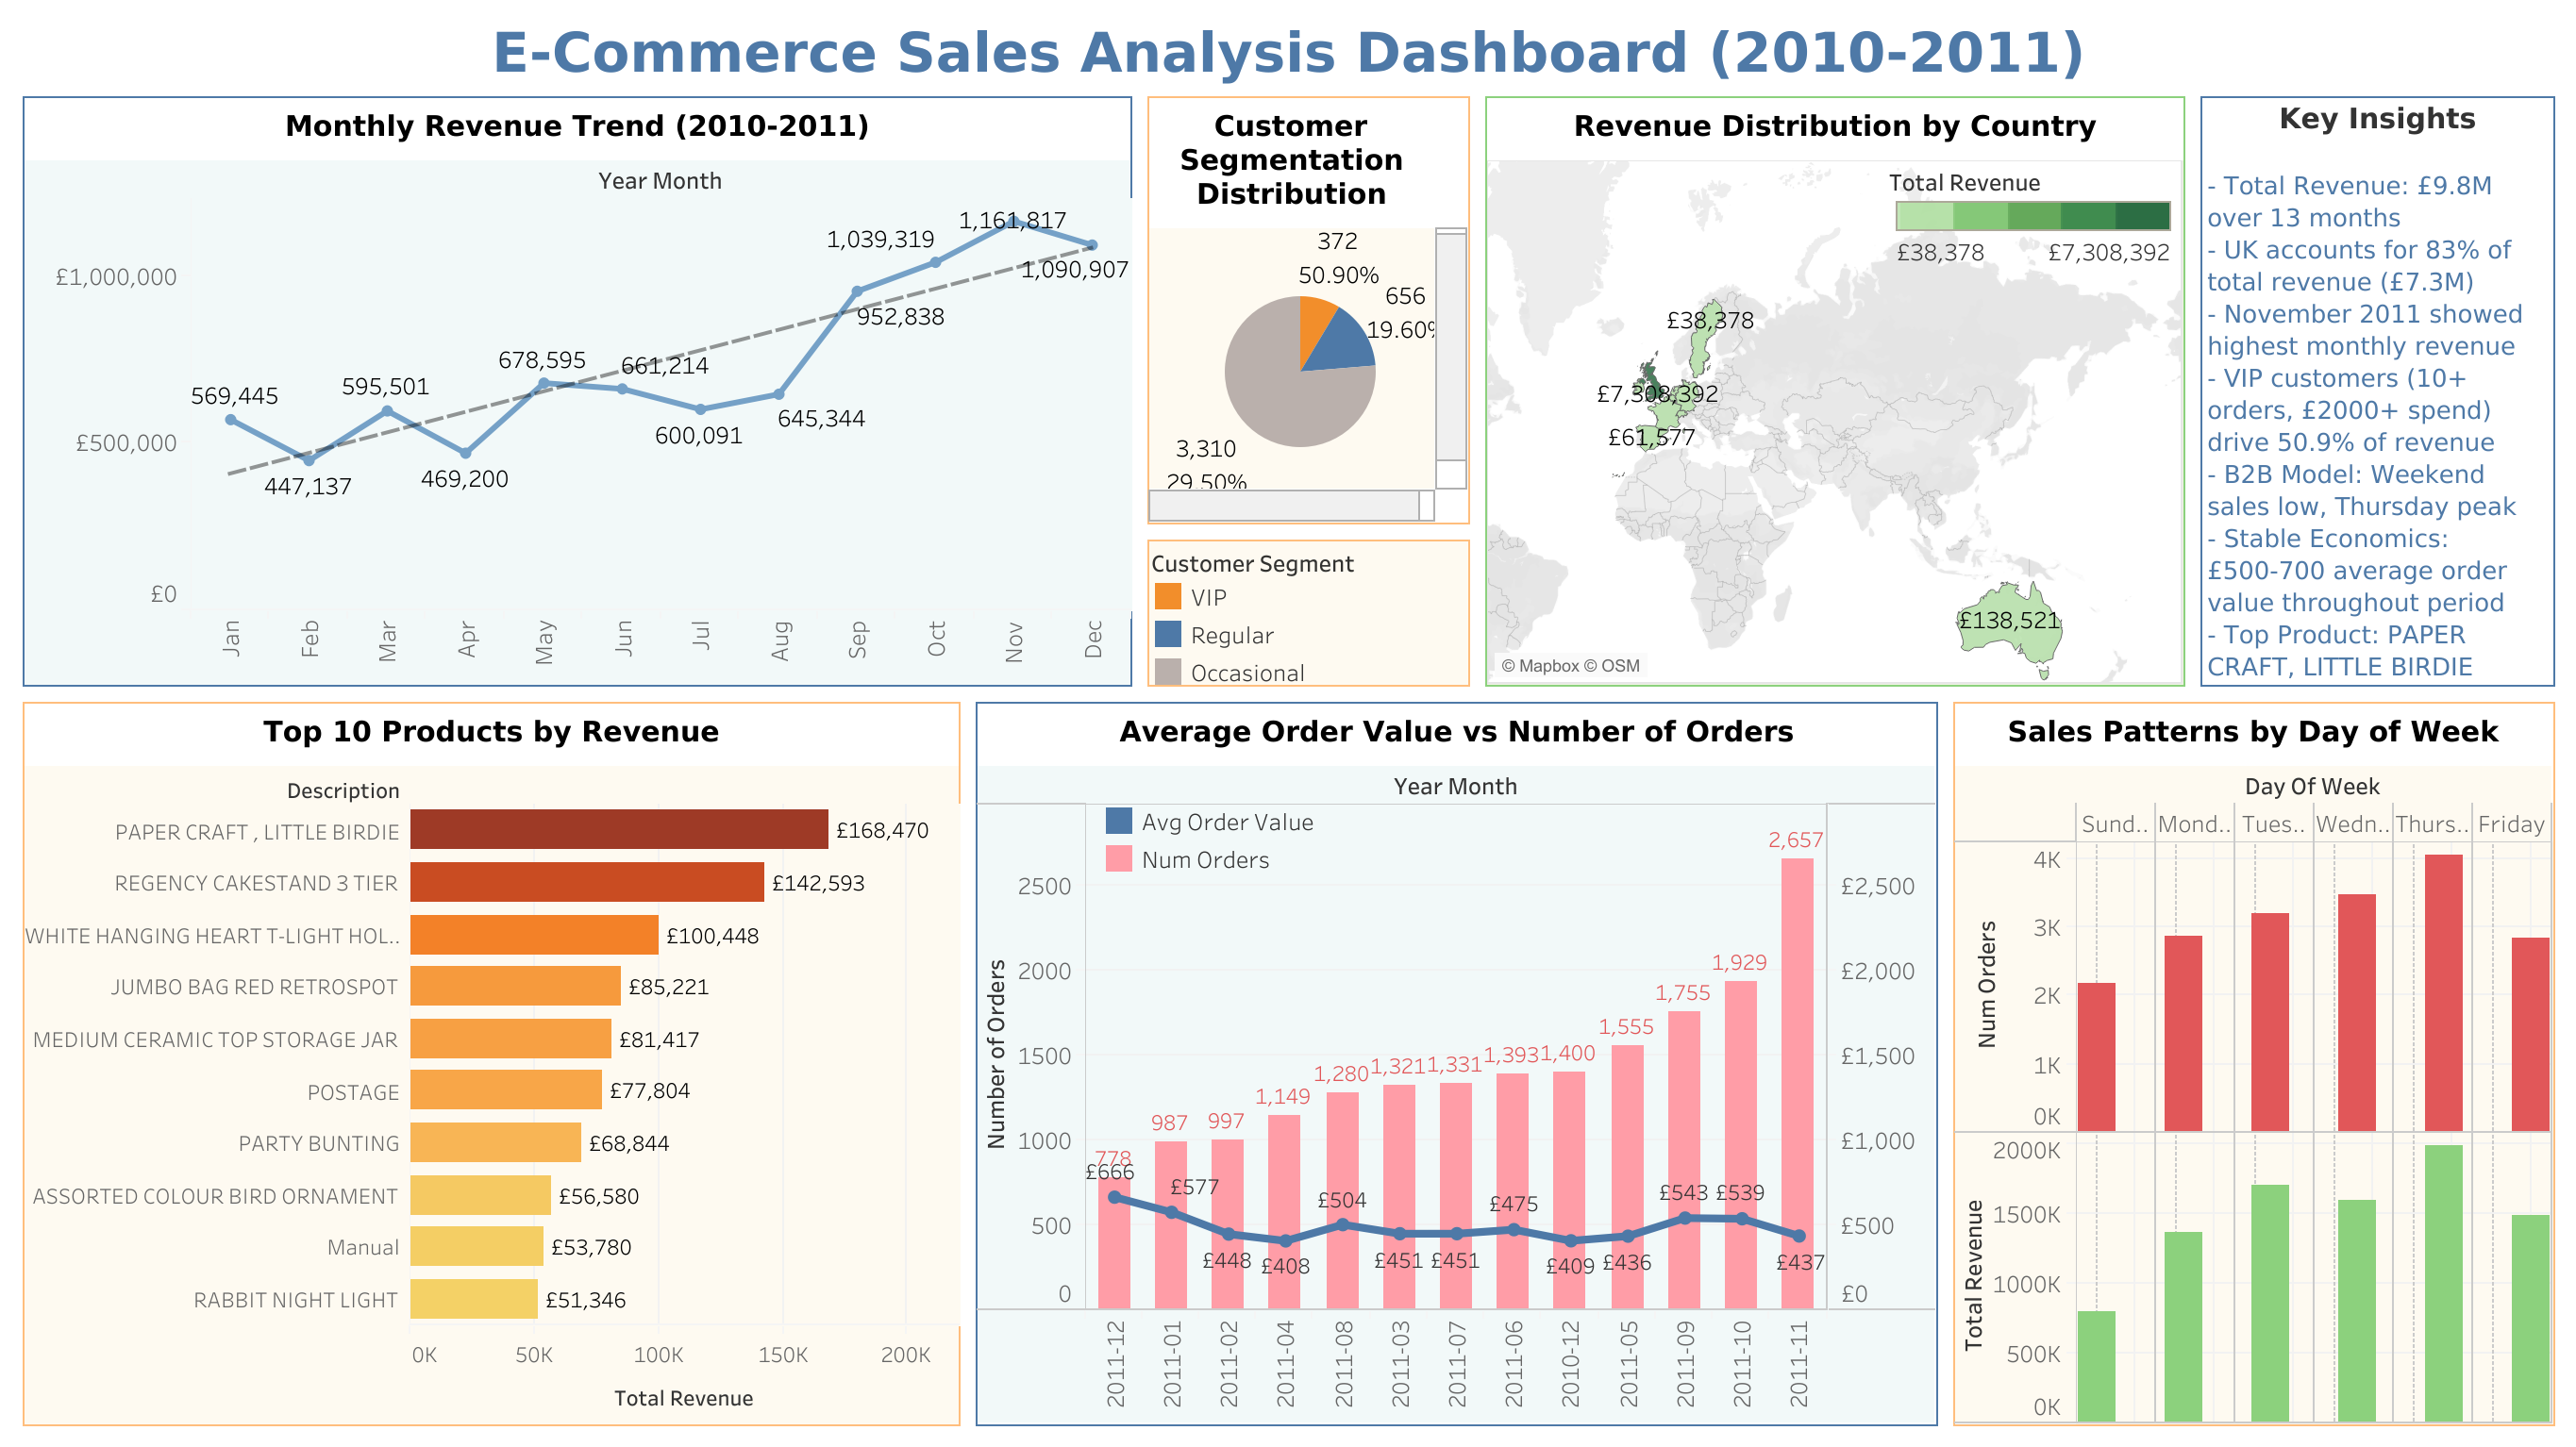

Layout of this report page (visuals, bound fields, positions):
{"tool":"tableau","page":{"name":"Dashboard 1","canvas":[1366,768],"ordinal":0},"visuals":[{"type":"text","box":[8,8,1350,39]},{"type":"worksheet","title":"Sheet 1","mark":"Automatic","rows":["total_revenue"],"cols":["YearMonth"],"box":[8,47,596,321]},{"type":"worksheet","title":"Sheet 4","mark":"Pie","box":[604,47,179,235]},{"type":"worksheet","title":"Sheet 2","mark":"Automatic","box":[783,47,379,321]},{"type":"text","box":[1162,47,196,321]},{"type":"legend","title":"Sheet 2","param":"[federated.1s08eec0hzmz9c15k1ndg0gb1j48].[sum:total_revenue:qk]","box":[1001,83,154,76]},{"type":"legend","title":"Sheet 4","param":"[federated.01bhbrn030iqpd16fjrrz1rmdpwb].[none:customer_segment:nk]","box":[604,282,179,86]},{"type":"worksheet","title":"Sheet 3","mark":"Automatic","rows":["Description"],"cols":["total_revenue"],"box":[8,368,505,392]},{"type":"worksheet","title":"Sheet 6","mark":"Automatic","rows":["num_orders","avg_order_value"],"cols":["YearMonth"],"box":[513,368,518,392]},{"type":"worksheet","title":"Sheet 5","mark":"Bar","rows":["num_orders","total_revenue"],"cols":["day_of_week","day_number"],"box":[1031,368,327,392]},{"type":"legend","title":"Sheet 6","param":"[federated.1bbkhjf1klec4812ux4kt0jz17zo].[:Measure Names]","box":[583,425,140,58]}]}

Visuals, with their boxes in screenshot pixels (x1, y1, x2, y2), scaled from the page's 1366x768 canvas onto the 2576x1447 screenshot:
text: Rect(15, 15, 2561, 89)
"Sheet 1" worksheet: Rect(15, 89, 1139, 693)
"Sheet 4" worksheet (Pie marks): Rect(1139, 89, 1477, 531)
"Sheet 2" worksheet: Rect(1477, 89, 2191, 693)
text: Rect(2191, 89, 2561, 693)
"Sheet 2" legend: Rect(1888, 157, 2178, 300)
"Sheet 4" legend: Rect(1139, 531, 1477, 693)
"Sheet 3" worksheet: Rect(15, 693, 967, 1432)
"Sheet 6" worksheet: Rect(967, 693, 1944, 1432)
"Sheet 5" worksheet (Bar marks): Rect(1944, 693, 2561, 1432)
"Sheet 6" legend: Rect(1099, 801, 1363, 910)
